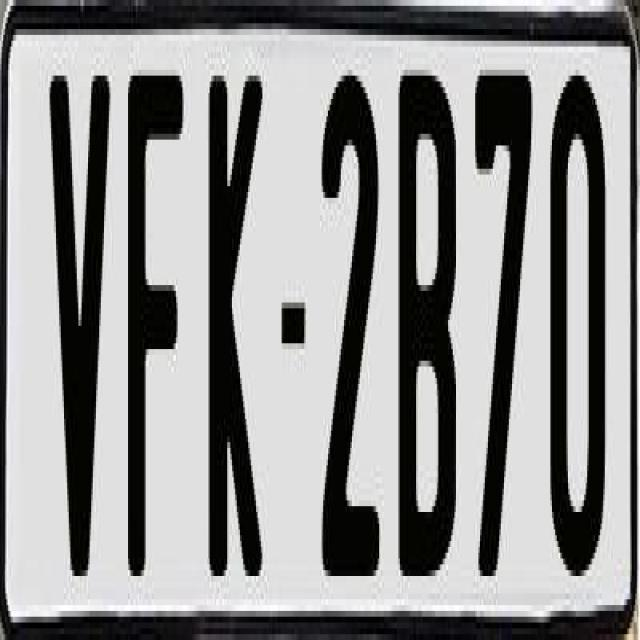0: (548, 70, 612, 606)
2: (320, 58, 379, 588)
7: (474, 76, 536, 582)
B: (398, 76, 462, 600)
F: (124, 58, 182, 582)
K: (208, 75, 264, 588)
V: (48, 70, 112, 570)
